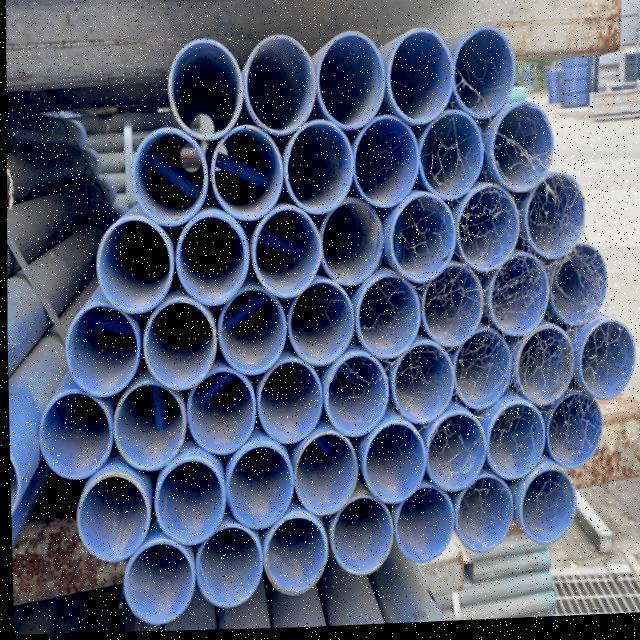pipe: (162, 37, 246, 149), (127, 128, 209, 235), (90, 216, 174, 320), (171, 212, 253, 317), (241, 34, 319, 143), (313, 32, 390, 137), (137, 297, 218, 395), (382, 30, 456, 136), (207, 126, 285, 226), (61, 301, 141, 398), (70, 469, 149, 567), (106, 379, 186, 475), (281, 121, 357, 221), (35, 387, 112, 483), (214, 286, 288, 384), (149, 453, 225, 548), (414, 111, 488, 208), (119, 538, 197, 630), (249, 208, 322, 306), (182, 367, 258, 461), (350, 116, 420, 217), (385, 192, 459, 287), (487, 103, 558, 200), (450, 23, 518, 124), (219, 446, 296, 535), (191, 519, 263, 614), (253, 358, 325, 451), (319, 353, 391, 446), (418, 267, 490, 358), (289, 431, 361, 522), (352, 277, 424, 367), (452, 188, 520, 283), (316, 201, 384, 295), (518, 175, 588, 266), (286, 282, 358, 370), (387, 340, 457, 430), (360, 420, 429, 507), (482, 256, 549, 344), (260, 512, 327, 599), (326, 499, 394, 584), (572, 318, 636, 408), (423, 415, 487, 502), (481, 402, 545, 489), (545, 249, 608, 337), (512, 328, 579, 410), (451, 333, 515, 417), (451, 473, 513, 558), (540, 390, 602, 475), (391, 485, 455, 567), (512, 471, 575, 554)
